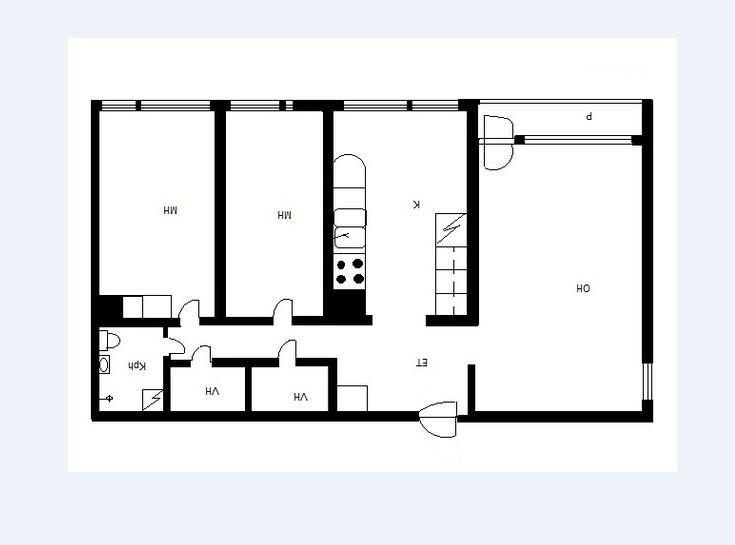bathroom: (97, 326, 163, 409)
door: (415, 410, 459, 440), (481, 111, 517, 145), (482, 139, 517, 173), (414, 397, 463, 421), (274, 335, 299, 368), (269, 297, 296, 325), (176, 297, 202, 326), (186, 341, 213, 368), (162, 334, 187, 358)
perimeter: (90, 98, 654, 424)
window: (518, 132, 637, 149), (336, 95, 413, 117), (136, 97, 214, 114), (407, 95, 463, 117), (224, 97, 285, 114), (640, 352, 659, 406), (97, 95, 141, 115), (277, 95, 299, 114)
